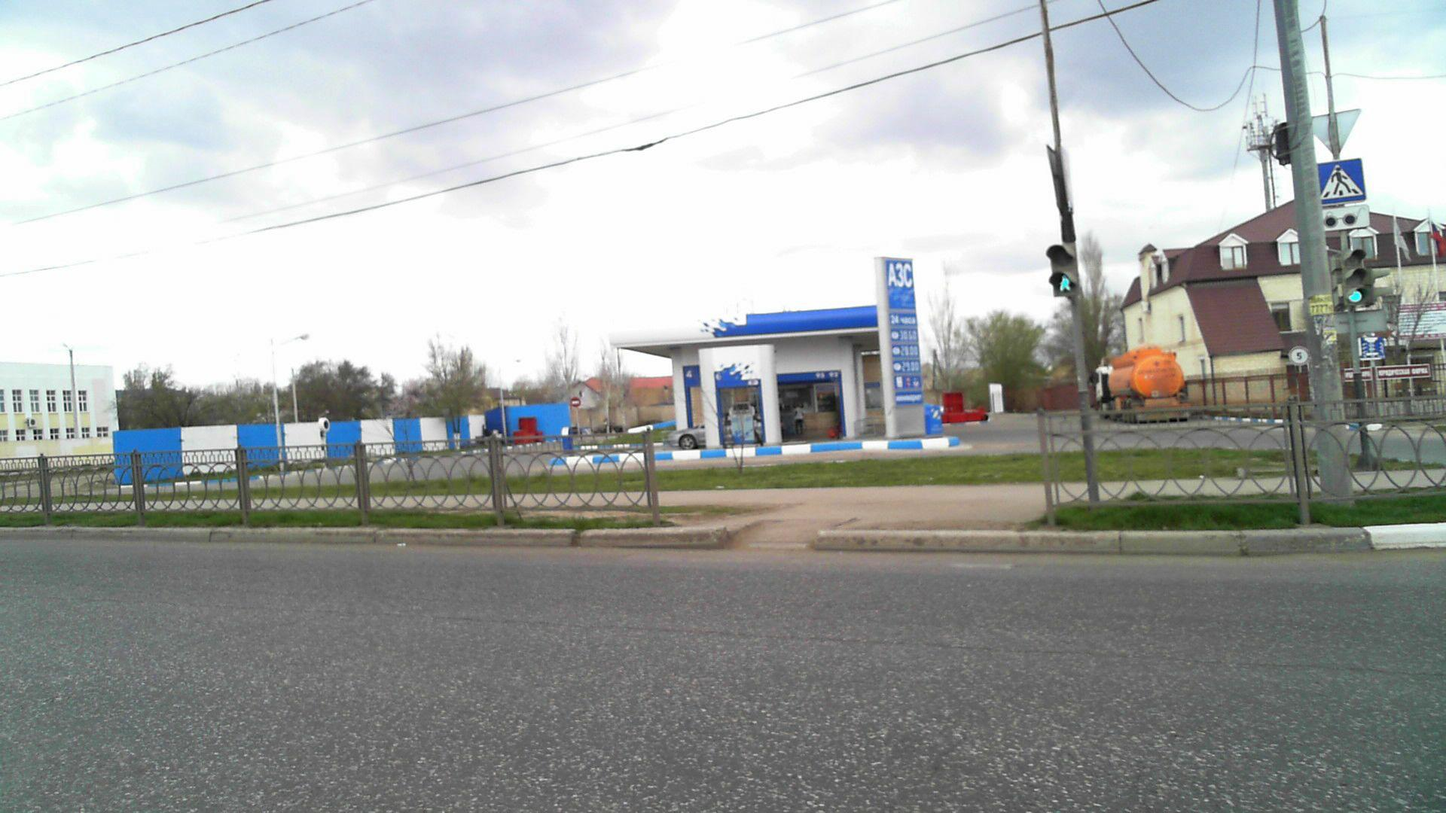road_sign: (1316, 154, 1369, 208), (1318, 205, 1372, 233), (1288, 345, 1310, 367)
traffic light: (1042, 239, 1084, 302), (1338, 245, 1371, 308)
